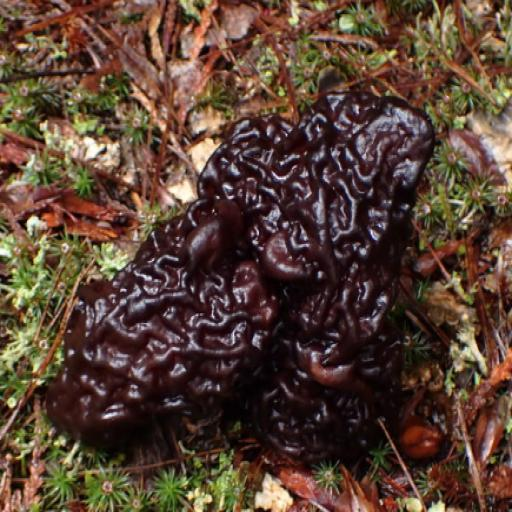False Morel: (50, 71, 432, 460)
